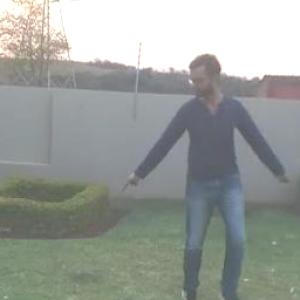land: (121, 57, 299, 299)
